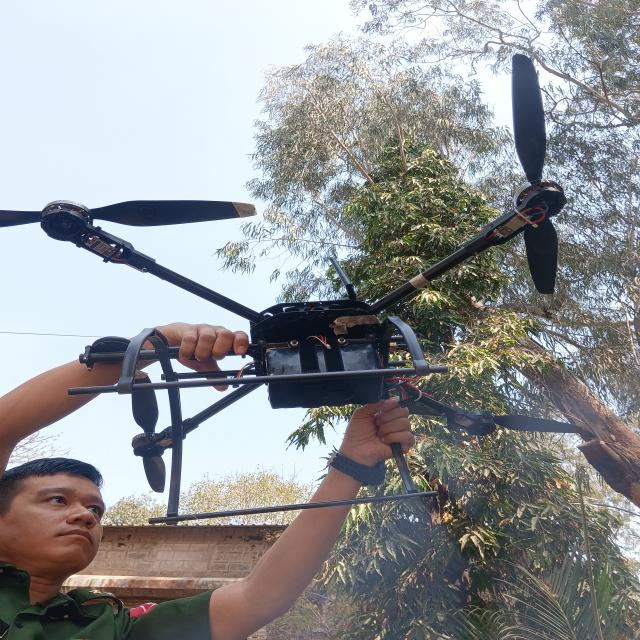drone: (4, 36, 618, 528)
